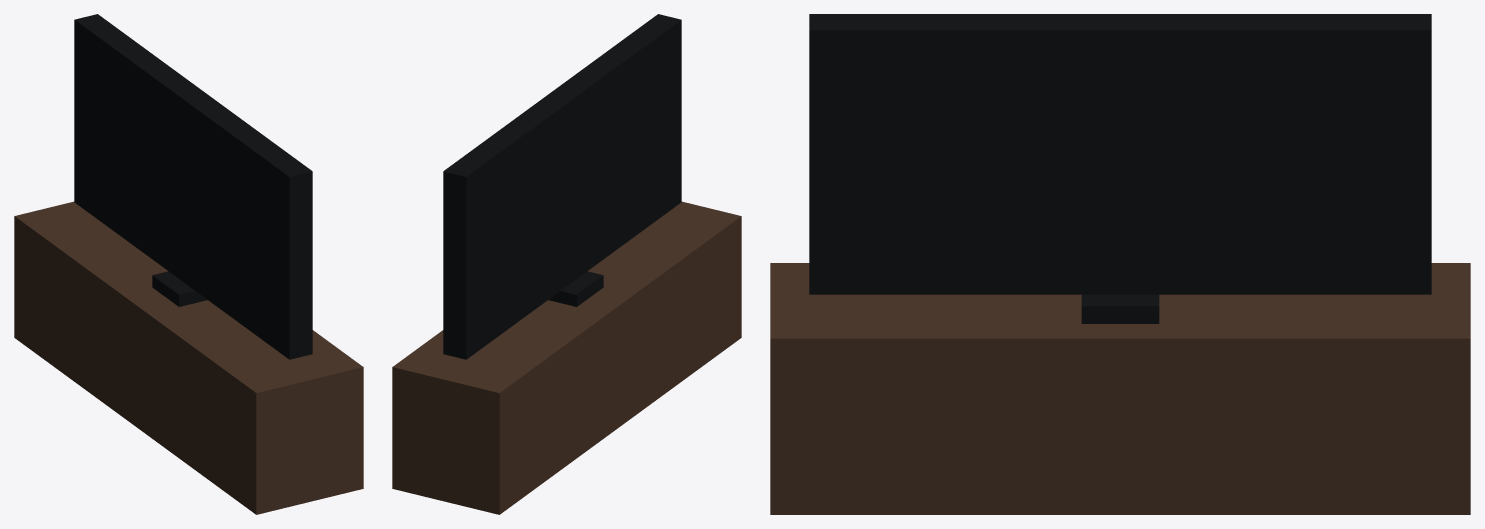
The model's file is shop-tv.glb.
3 views of the same model, side by side, from view 1: azimuth 30°, elevation 25°; view 2: azimuth 150°, elevation 25°; view 3: azimuth 270°, elevation 25° (orthographic). The views are drawn at different scales.
Parts seen in each view (by area): view 1: TvStand, Tv, TvFoot; view 2: TvStand, Tv, TvFoot; view 3: Tv, TvStand, TvFoot.
Part boxes in pixels (left/top/right/bottom): TvStand: left=14, top=201, right=363, bottom=514; Tv: left=74, top=14, right=312, bottom=359; TvFoot: left=152, top=271, right=207, bottom=306; TvStand: left=392, top=201, right=741, bottom=514; Tv: left=443, top=14, right=681, bottom=359; TvFoot: left=548, top=271, right=603, bottom=306; Tv: left=809, top=14, right=1431, bottom=294; TvStand: left=770, top=263, right=1470, bottom=514; TvFoot: left=1081, top=294, right=1159, bottom=323.
Size of the model in its own units: 0.46 by 1.3 by 1.8.
